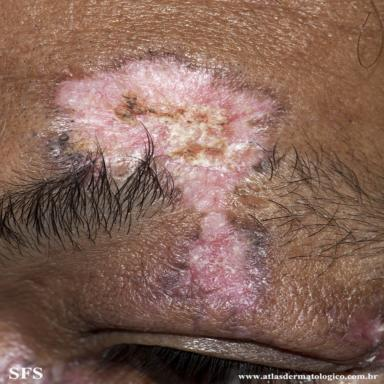Lupus-Erythematosus-Chronicus-Discoides: (42, 50, 289, 344)
